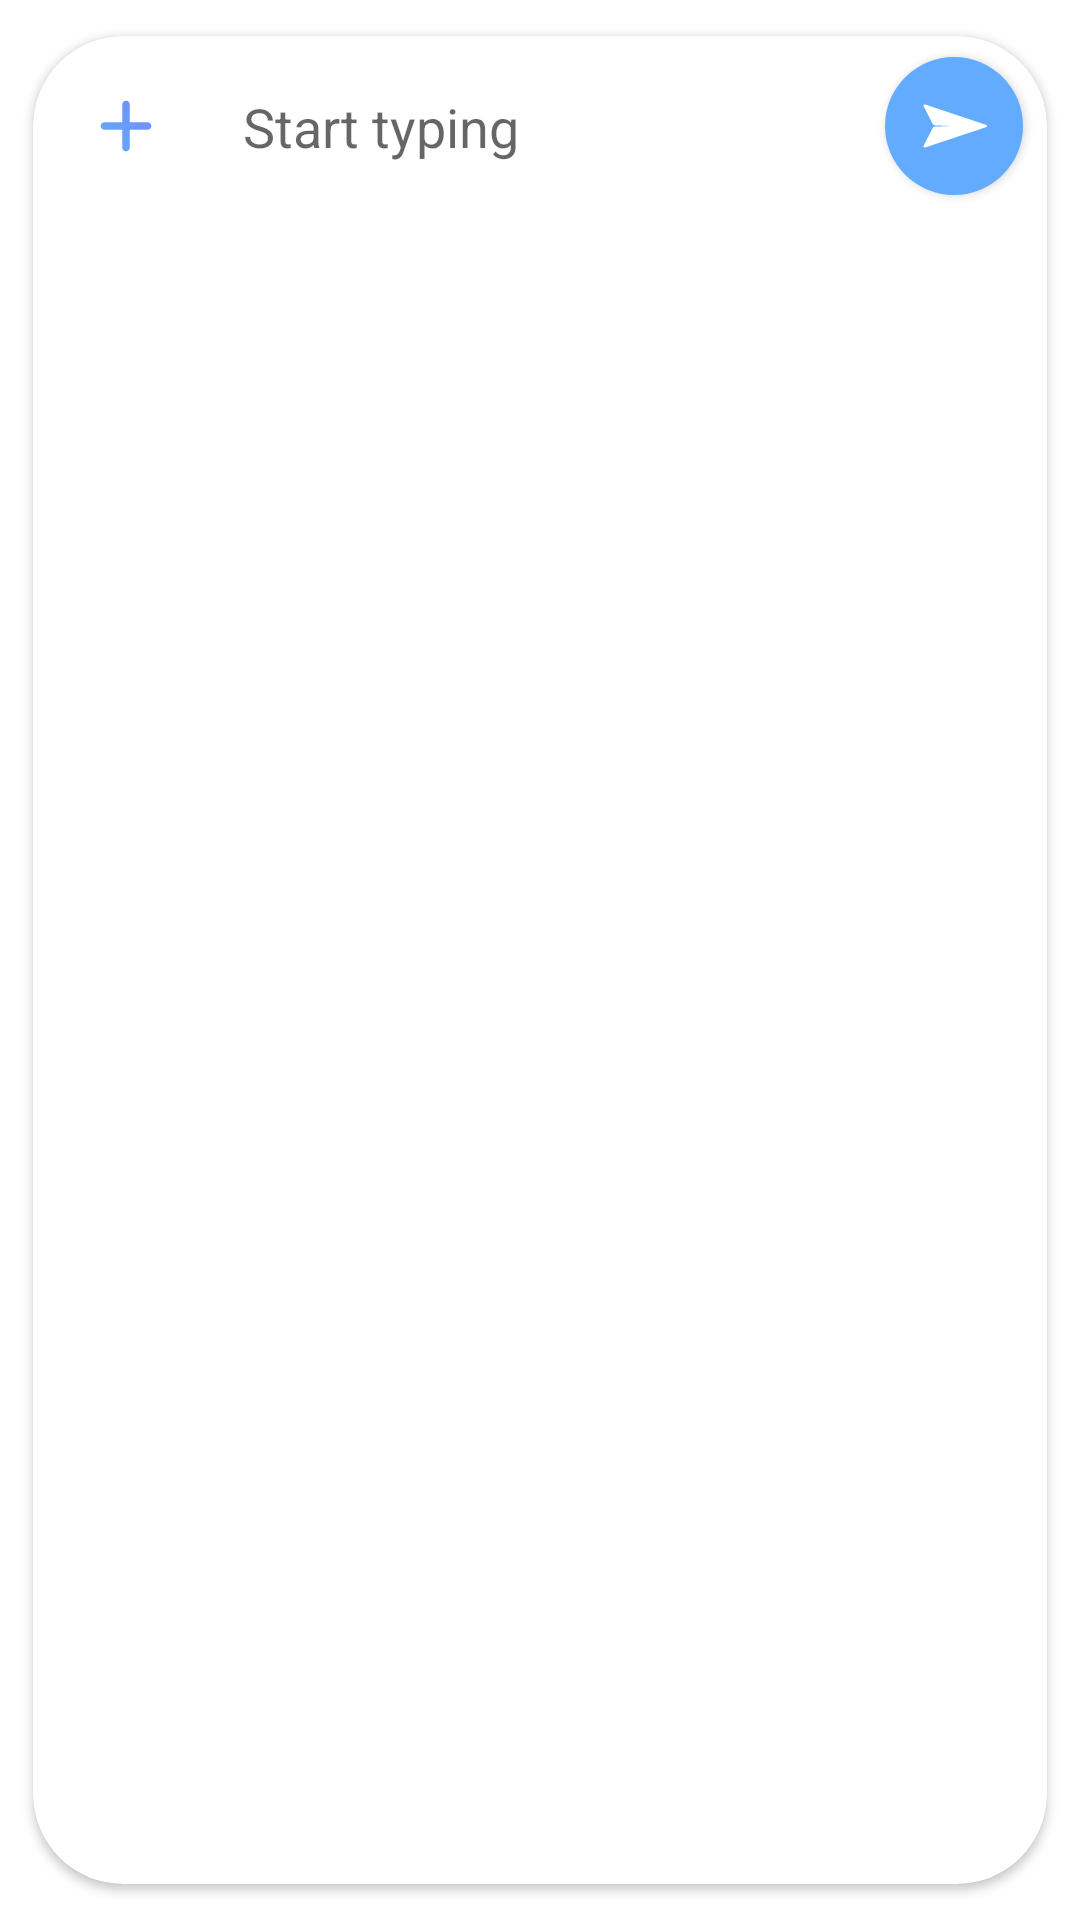

Icons on this 1080 × 1920 Android screen, each with the point to tap as (x=x, y=y):
add: (x=126, y=126)
send: (x=954, y=126)
